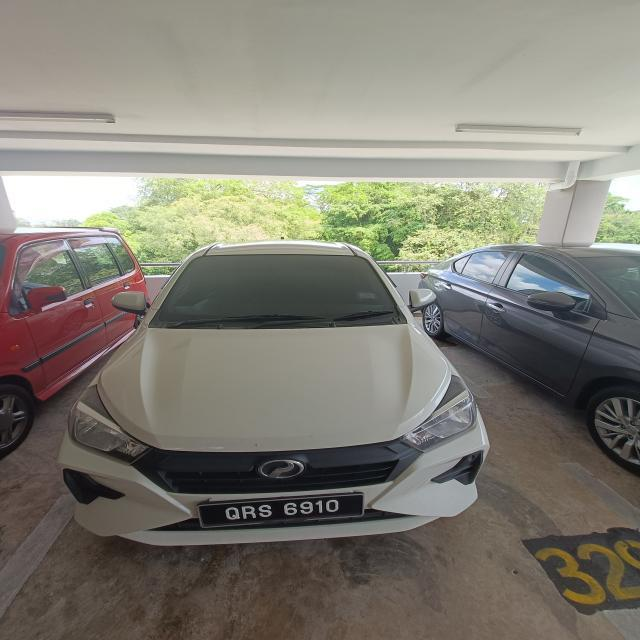PeroduaAxia: (55, 238, 491, 546)
